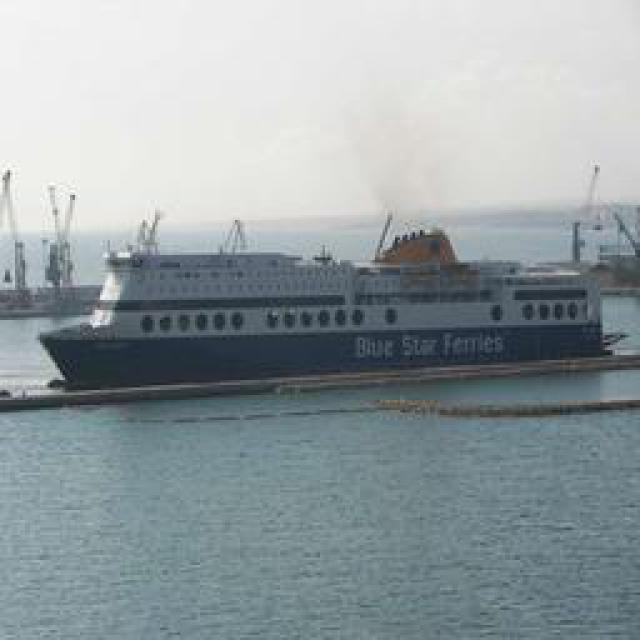Ship: (27, 216, 625, 389)
